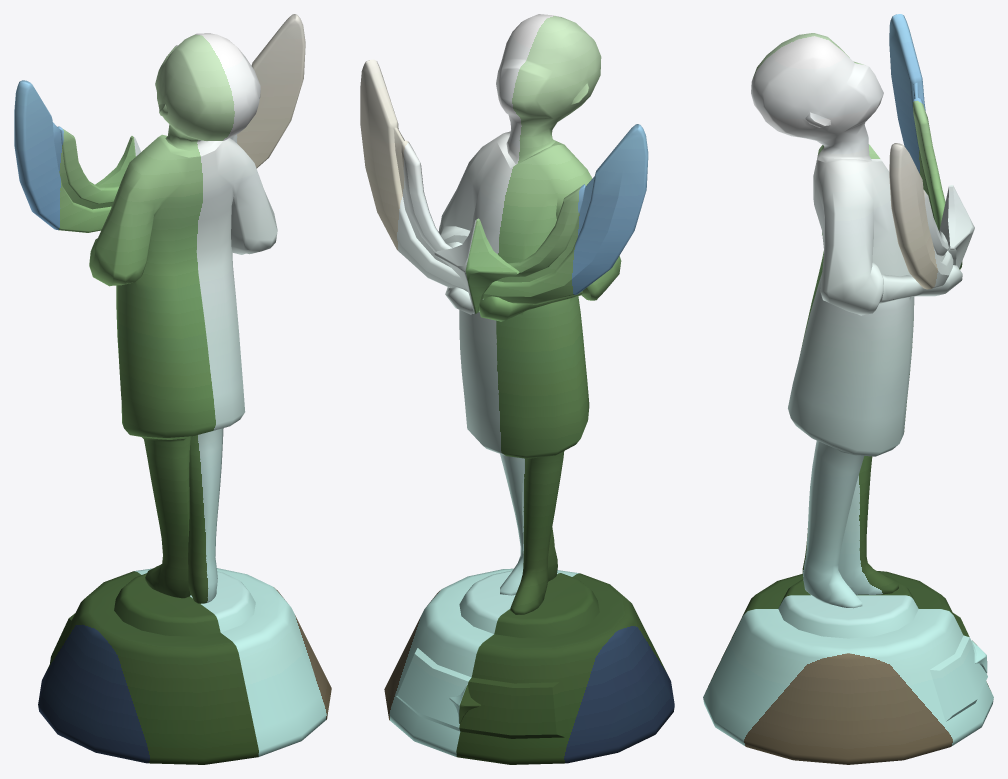
The model's file is CharSkyKid_Prop_AnniversaryTrophyS_00.glb.
The picture shows the model from 3 angles, left to right: view 1: azimuth 30°, elevation 25°; view 2: azimuth 150°, elevation 25°; view 3: azimuth 270°, elevation 25°; orthographic projection.
Visible parts, largest first — view 1: CharSkyKid_Prop_AnniversaryTrophyS_00; view 2: CharSkyKid_Prop_AnniversaryTrophyS_00; view 3: CharSkyKid_Prop_AnniversaryTrophyS_00.
Part boxes in pixels (bbox=[...]): CharSkyKid_Prop_AnniversaryTrophyS_00: bbox=[14, 14, 331, 764]; CharSkyKid_Prop_AnniversaryTrophyS_00: bbox=[360, 14, 674, 764]; CharSkyKid_Prop_AnniversaryTrophyS_00: bbox=[703, 14, 993, 764].
Bounding box in the file's own units: 0.1952 × 0.4404 × 0.1729.
1 material, 1 textured.
